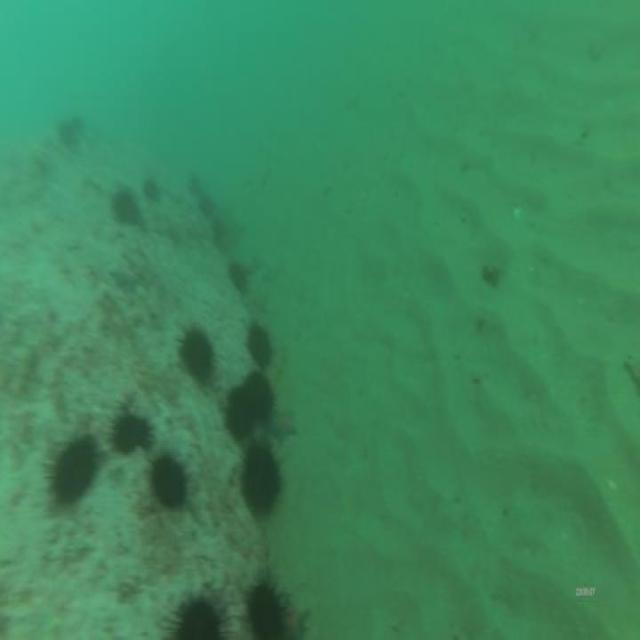echinus: (51, 438, 96, 504), (242, 443, 282, 515), (180, 322, 214, 389), (246, 586, 284, 640), (152, 455, 188, 511), (224, 390, 254, 444), (177, 602, 219, 640), (116, 412, 148, 453), (244, 376, 272, 417), (108, 186, 136, 223), (247, 326, 270, 365), (228, 258, 247, 290), (56, 119, 75, 150), (145, 178, 156, 200)
starfish: (268, 411, 297, 439)
